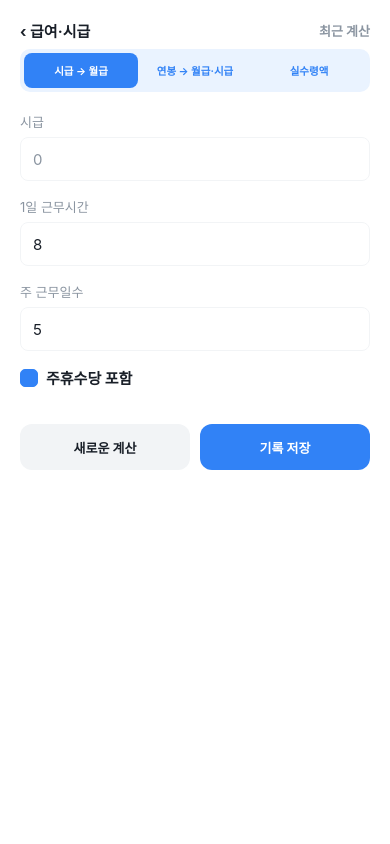
Scenario: SalaryScreen › drops weekly-holiday pay when the toggle is switched off
Type "10000" into the field with test id "input-hourly-wage".
click(195, 159); type("10000")  # box [20,137,370,181]
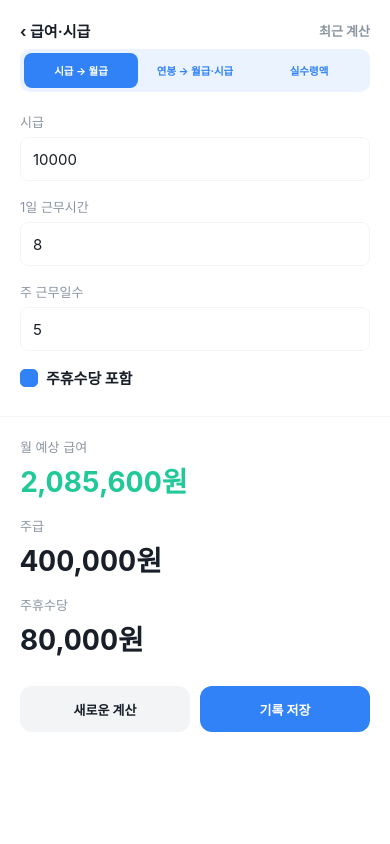
Click the element with test id "weekly-holiday-toggle".
click(76, 378)  # box [20,368,132,388]
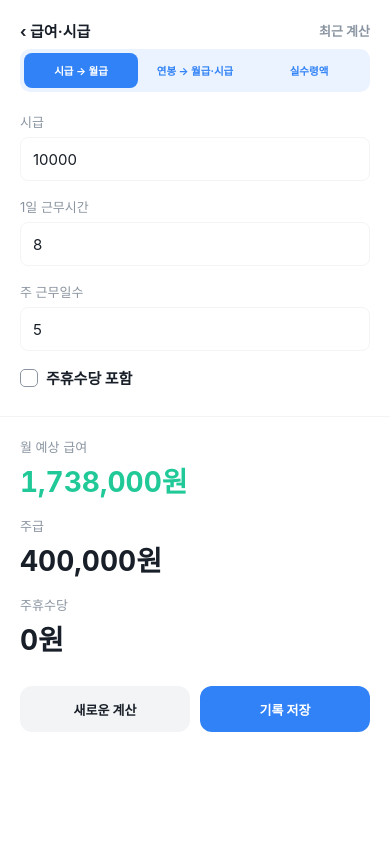
Expected: the text "1,738,000원" is shown, [20,465,188,499]
